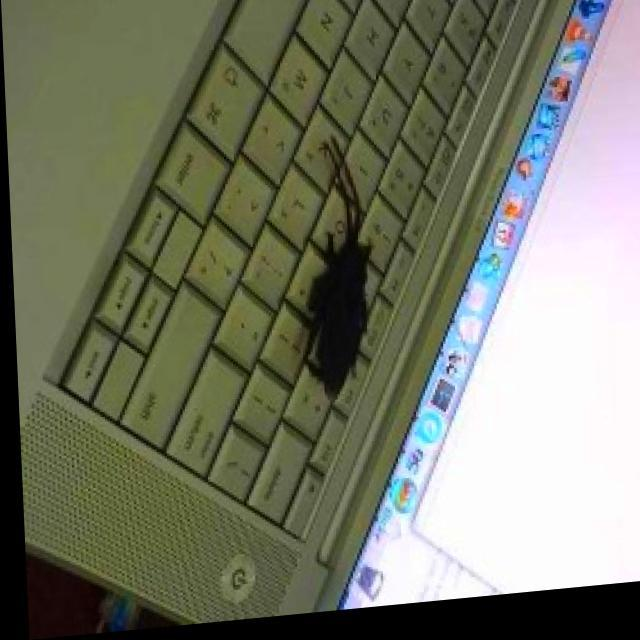cockroach: (290, 131, 385, 403)
